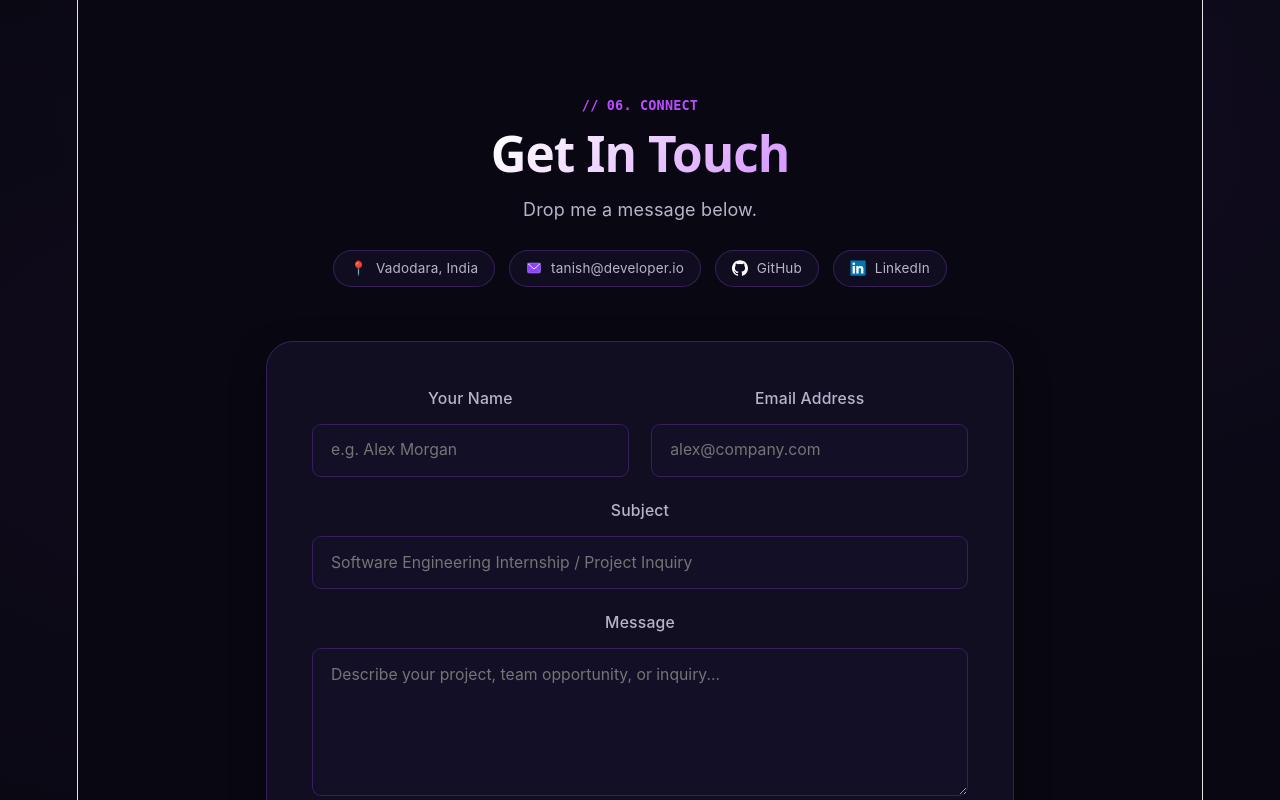
ContactSection Component (src/components/portfolio/ContactSection.jsx) › 2. Contact submission success: sends sanitized payload and displays confirmation
Type "Alice Developer" into the field labelled "Your Name" at (470, 450), box [312,424,629,476]
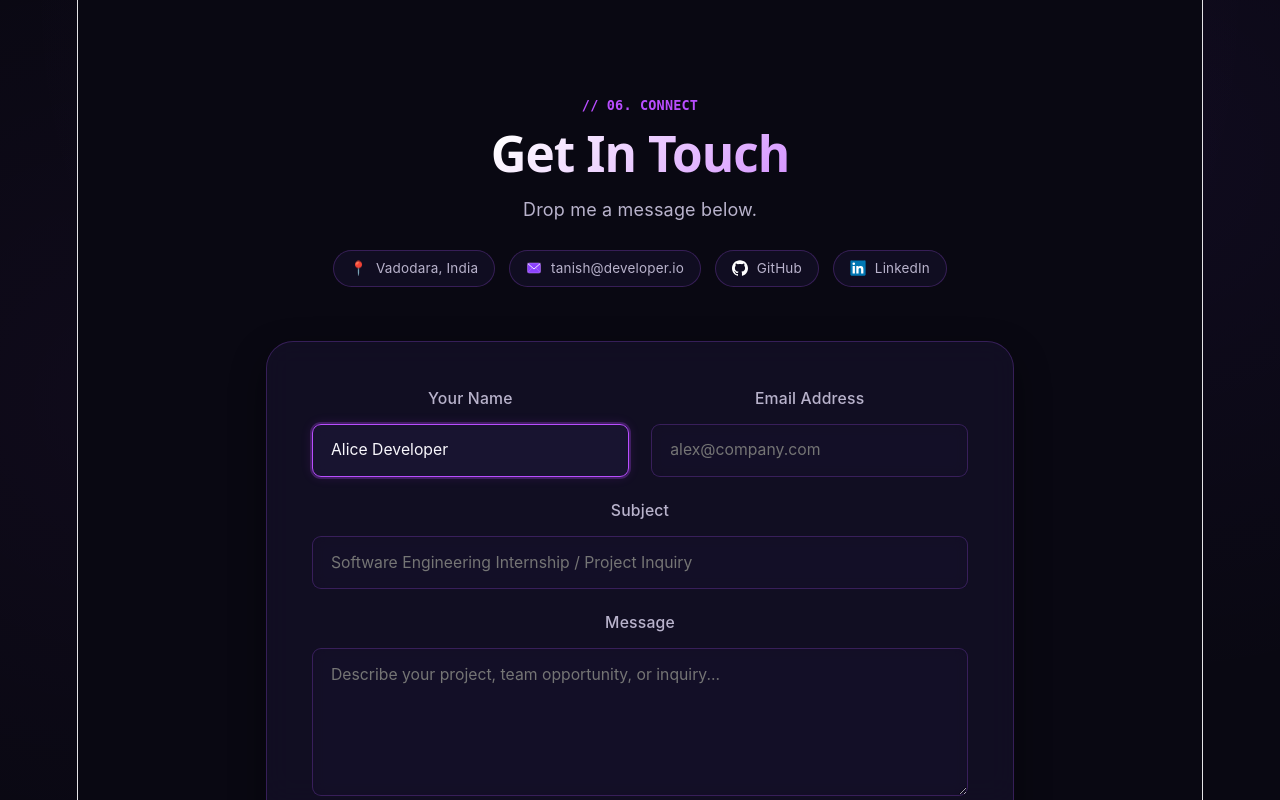
Type "alice@dev.com" into the field labelled "Email Address" at (810, 450), box [651,424,968,476]
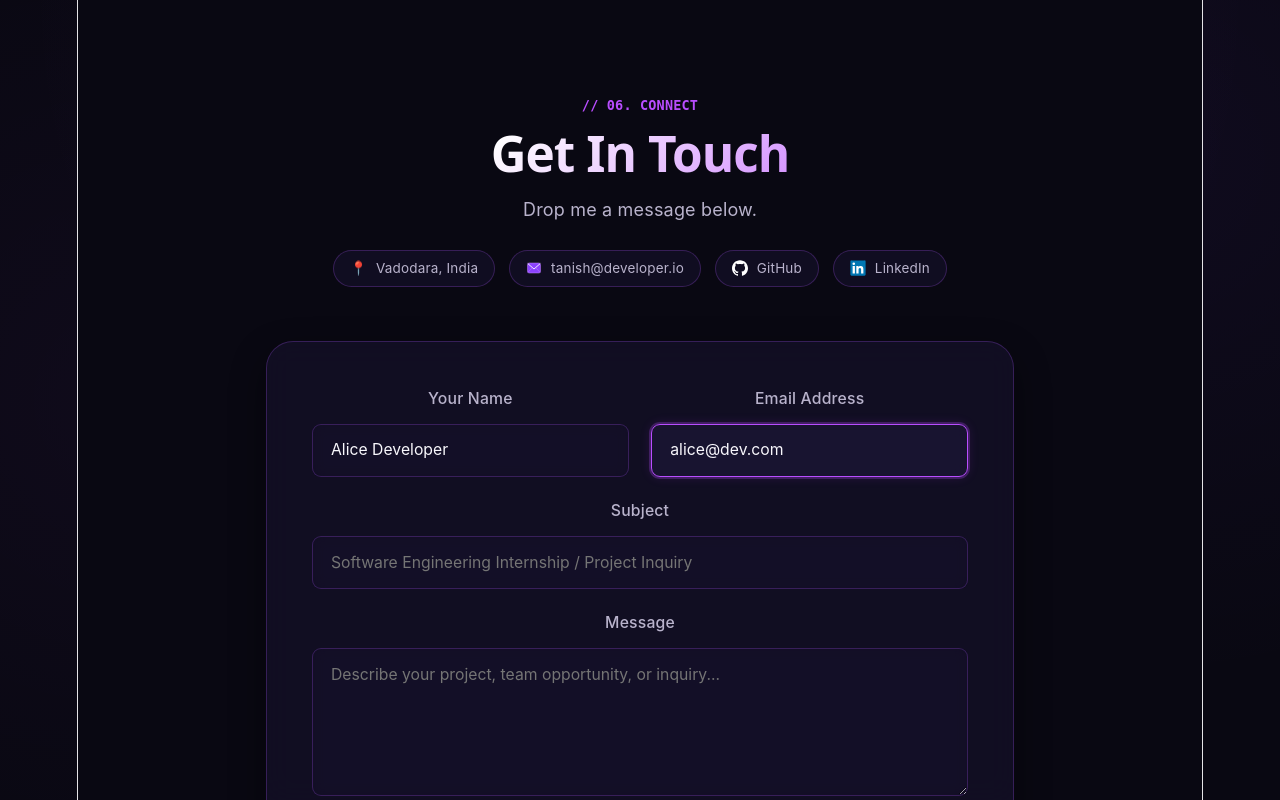
Type "Project Inquiries" into the field labelled "Subject" at (640, 562), box [312,536,968,589]
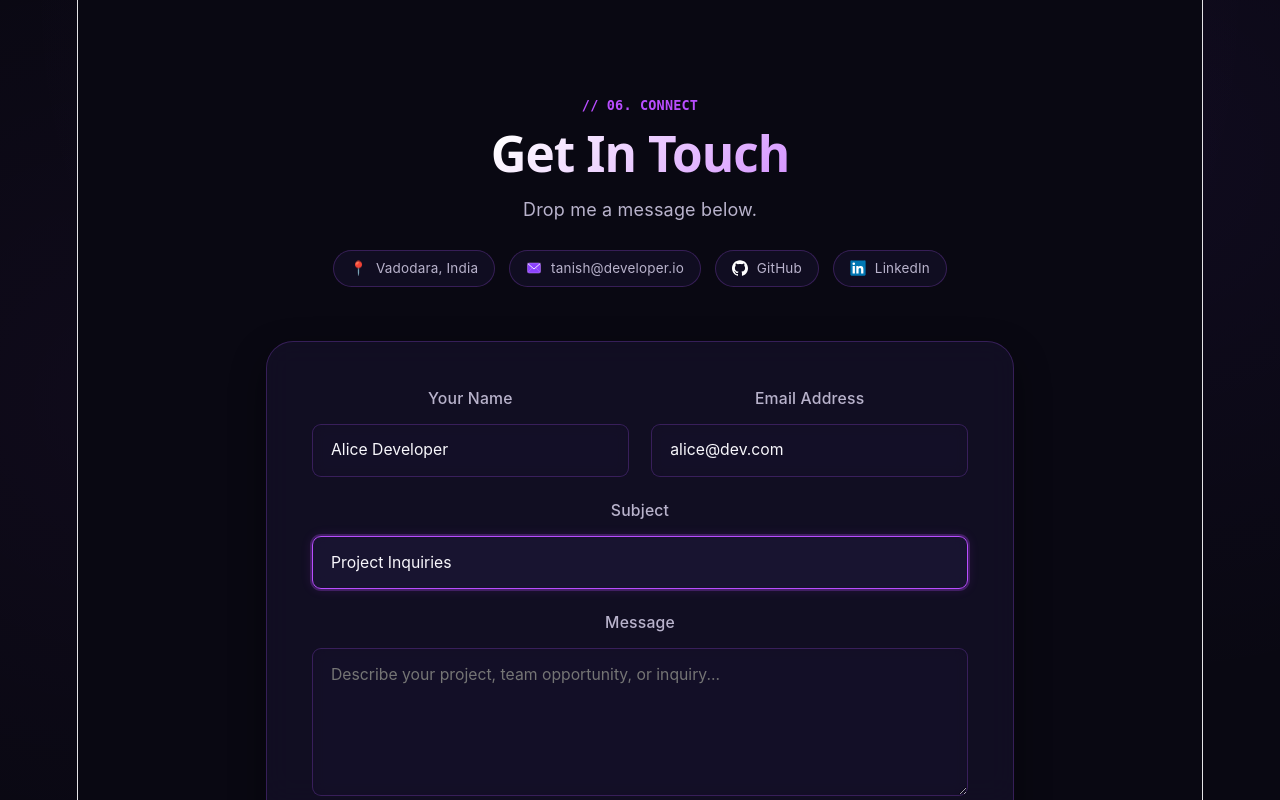
Type "Hello, I would like to discuss building a web app." into the text box labelled "Message" at (640, 722), box [312,648,968,796]
(page scrolled)
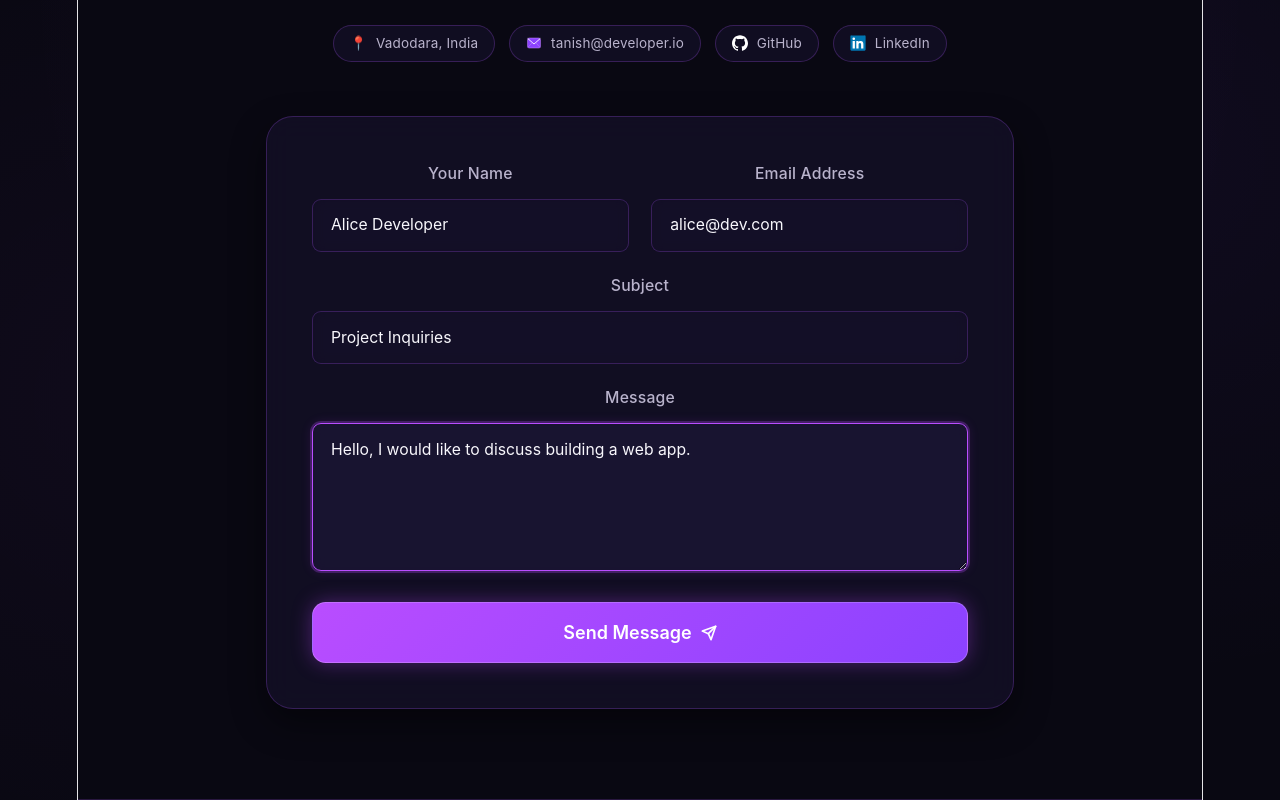
Click the button "Send Message" at (640, 633), box [312,602,968,663]
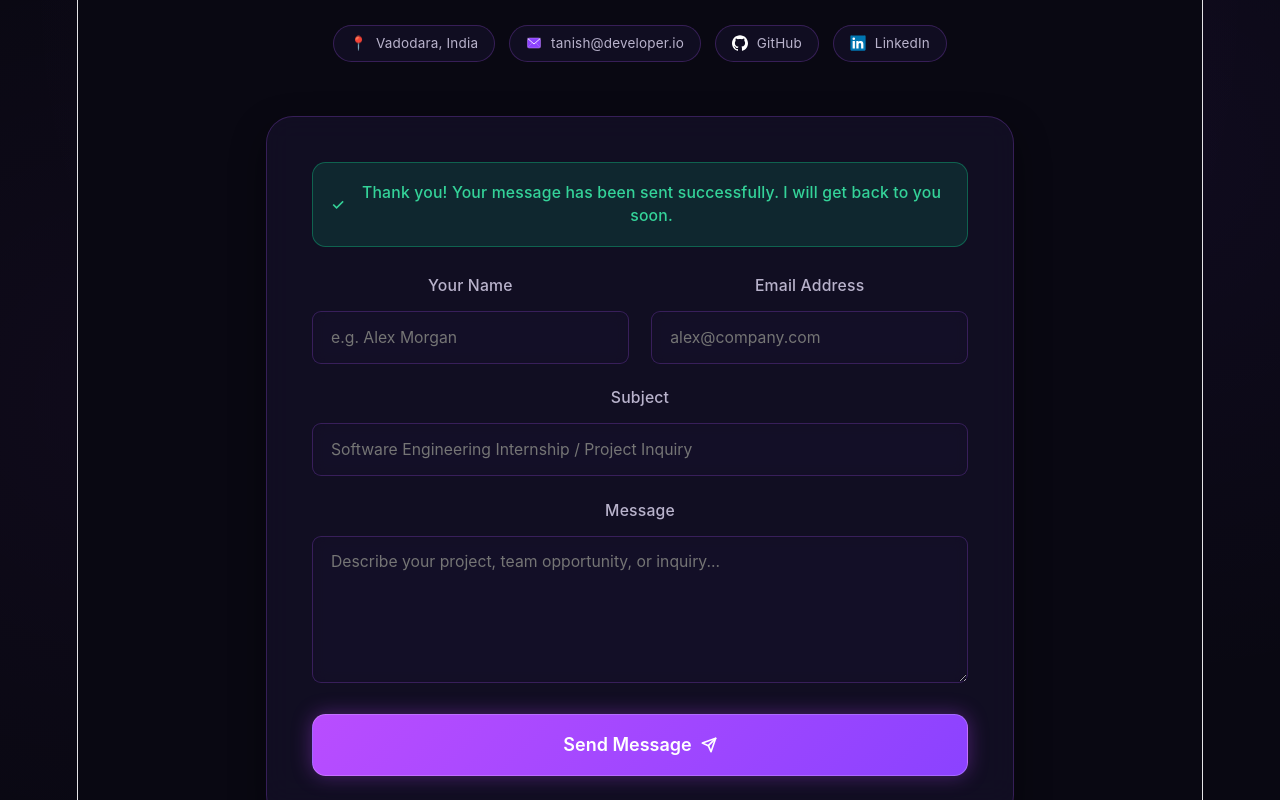
Expected: the message shows "Your message has been sent successfully", [362,183,941,225]
Expected: the field labelled "Your Name" is empty, [312,311,629,364]
Expected: the field labelled "Email Address" is empty, [651,311,968,364]
